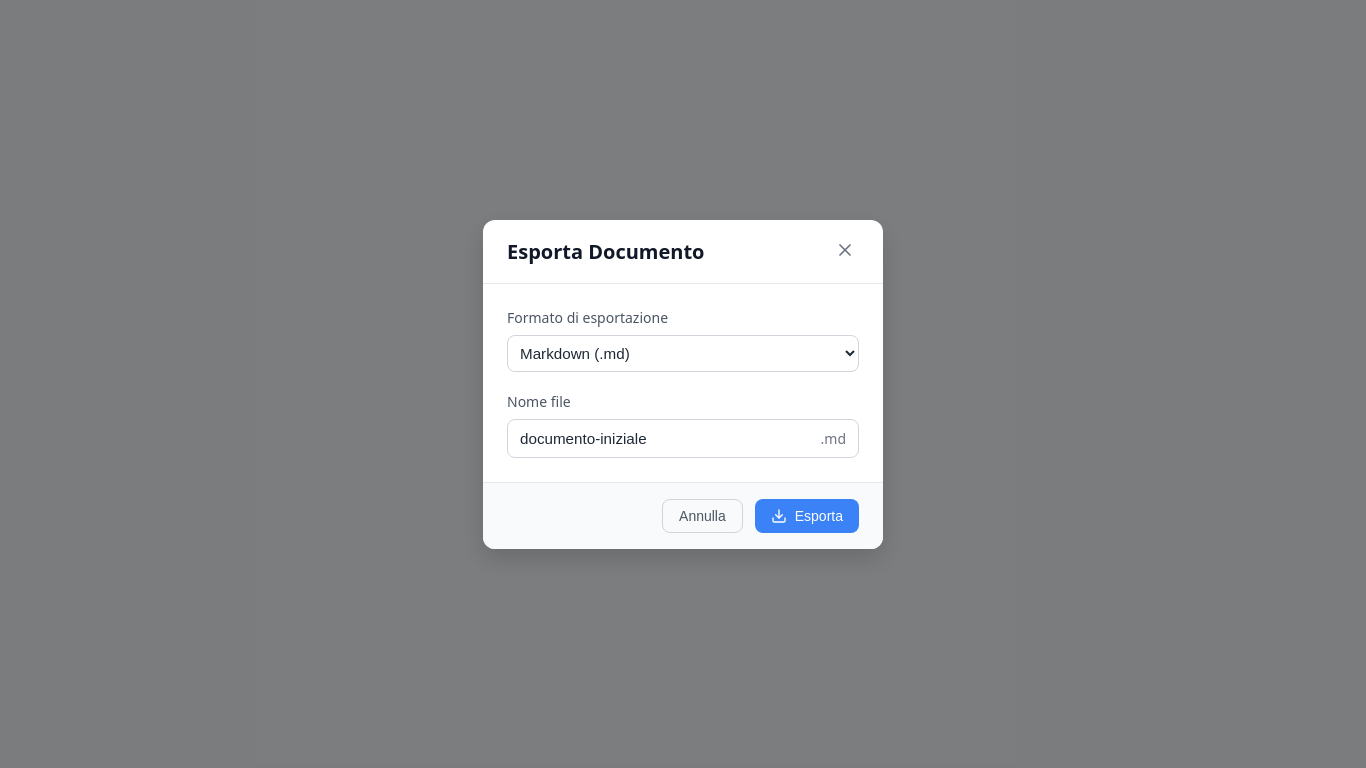
Test: SaveDocumentModal › sanitizza il nome file in tempo reale senza applicare trim
Replace the text in the field labelled "Nome file .md" with "mio <file> nuovo " at {"x": 668, "y": 438}, box left=520, top=422, right=816, bottom=454
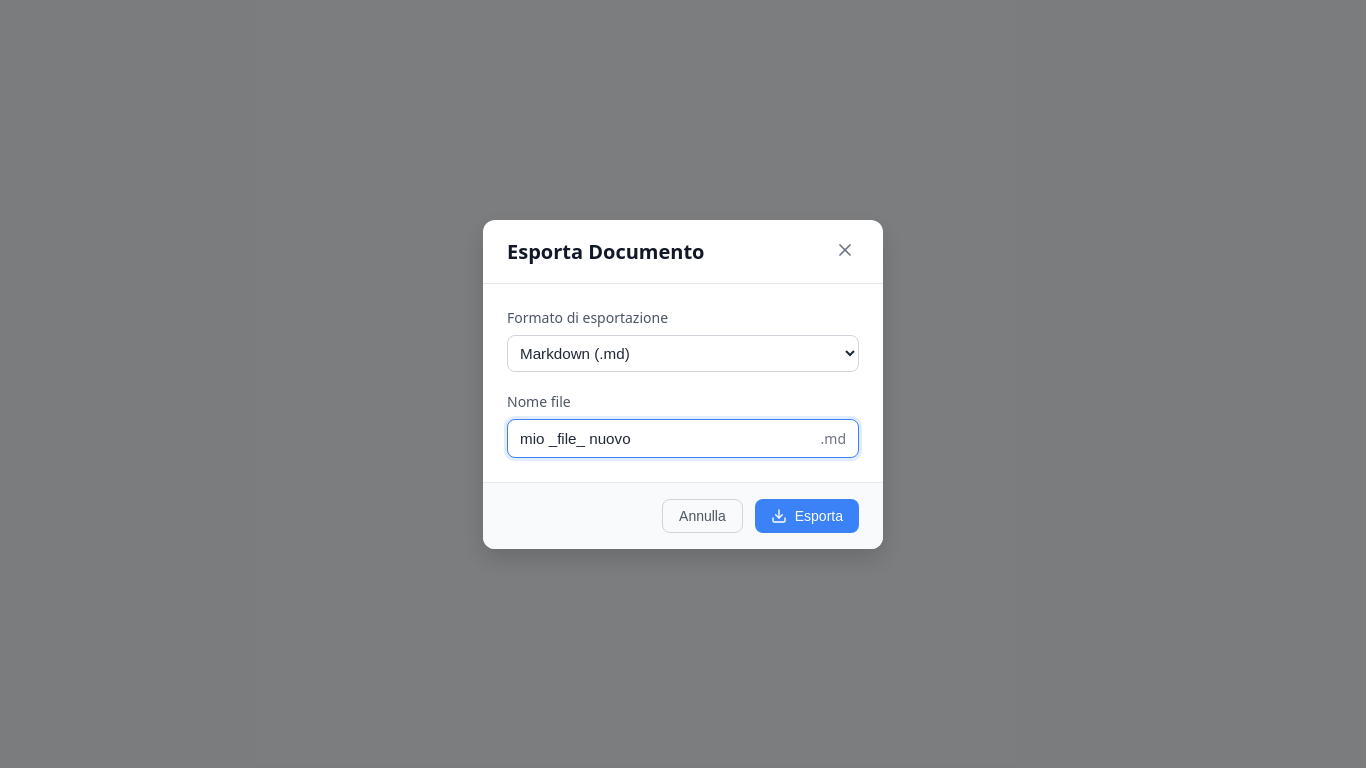
Expected: the field labelled "Nome file .md" holds "mio _file_ nuovo ", left=520, top=422, right=816, bottom=454
